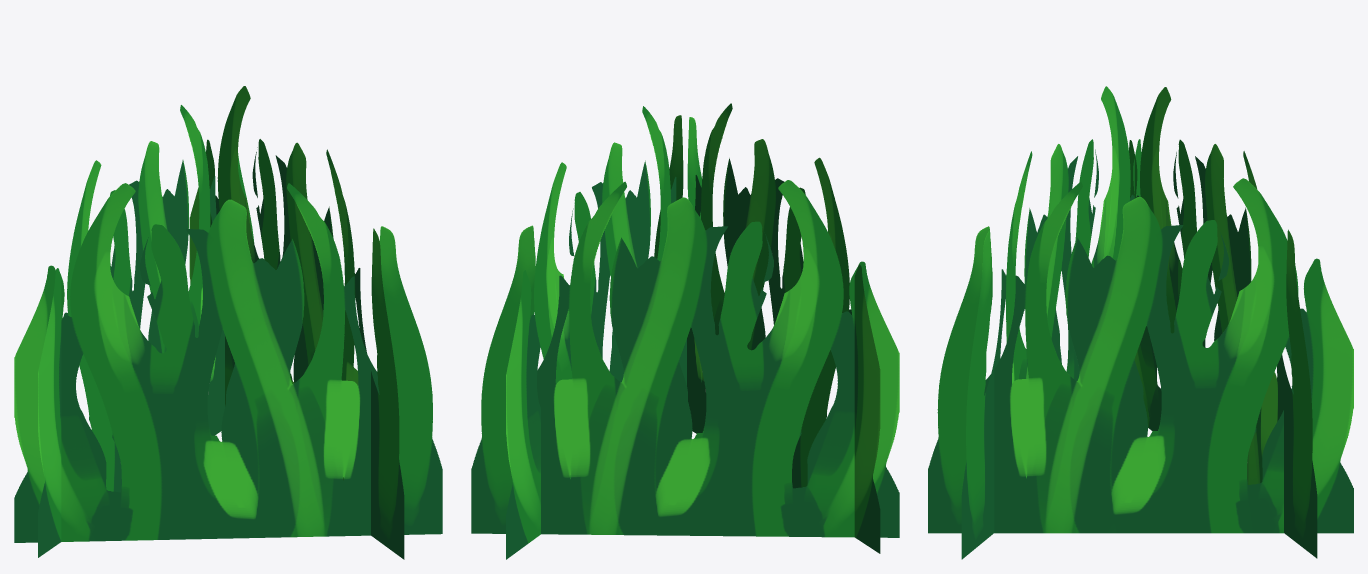
File: Grass2.fbx
3 renders of one model, left to right at view 1: azimuth 30°, elevation 25°; view 2: azimuth 150°, elevation 25°; view 3: azimuth 270°, elevation 25°, orthographic.
Parts seen in each view (by area): view 1: grass.003; view 2: grass.003; view 3: grass.003.
Part boxes in pixels (x1,y1,x2,y2): grass.003: (14, 86, 442, 559); grass.003: (471, 103, 899, 559); grass.003: (928, 86, 1353, 559).
Bounding box in the file's own units: 88.96 × 100 × 100.
Materials: 1 (1 with a texture image).
